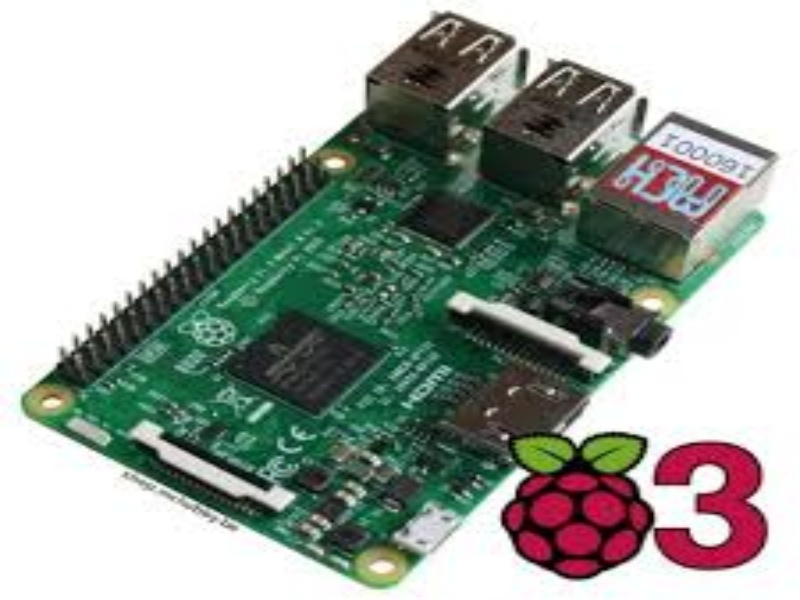raspberrypi: (29, 17, 776, 576)
